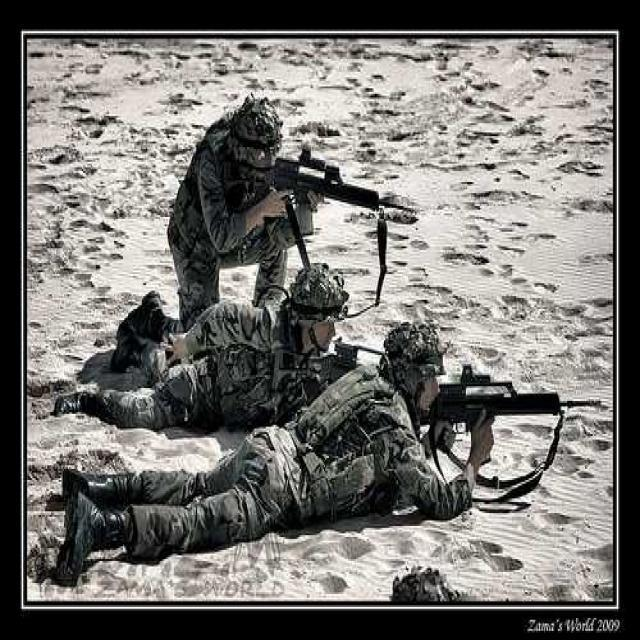weapon: (380, 354, 602, 488), (206, 147, 440, 248)
